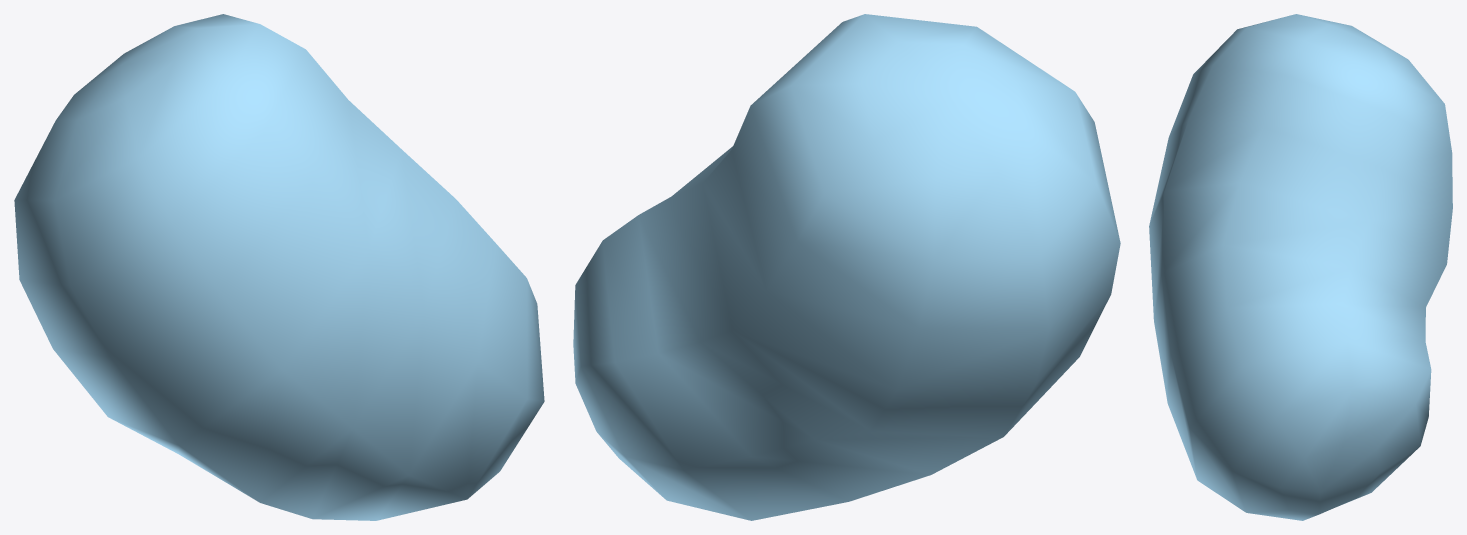
Rendered from vacuoli.fbx.
3 views of the same model, side by side, from view 1: azimuth 30°, elevation 25°; view 2: azimuth 150°, elevation 25°; view 3: azimuth 270°, elevation 25° (orthographic). The views are drawn at different scales.
Visible parts, largest first — view 1: Vacuoli_2; view 2: Vacuoli_2; view 3: Vacuoli_2.
Part boxes in pixels (<box>): Vacuoli_2: <box>14,14,544,520</box>; Vacuoli_2: <box>573,14,1120,520</box>; Vacuoli_2: <box>1149,14,1452,520</box>.
Bounding box in the file's own units: 195 × 195 × 129.
